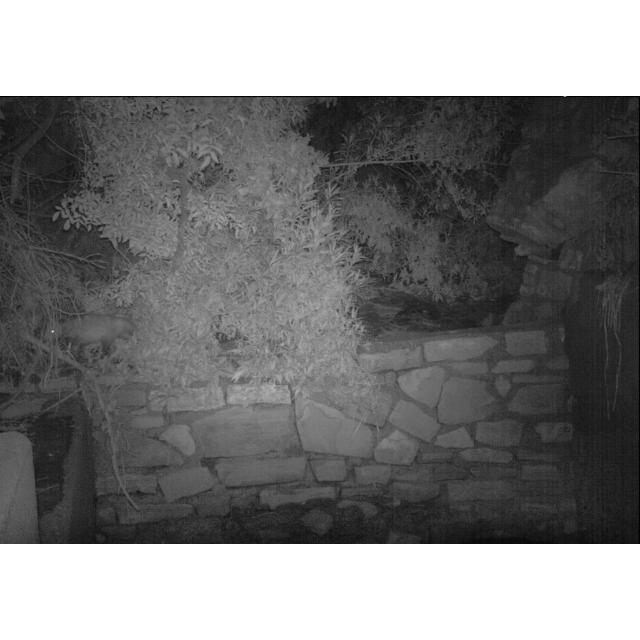animals: (42, 307, 138, 358)
